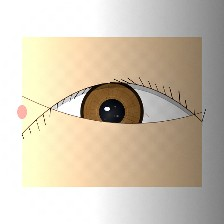hemorrhage_spot: (47, 93, 140, 167)
